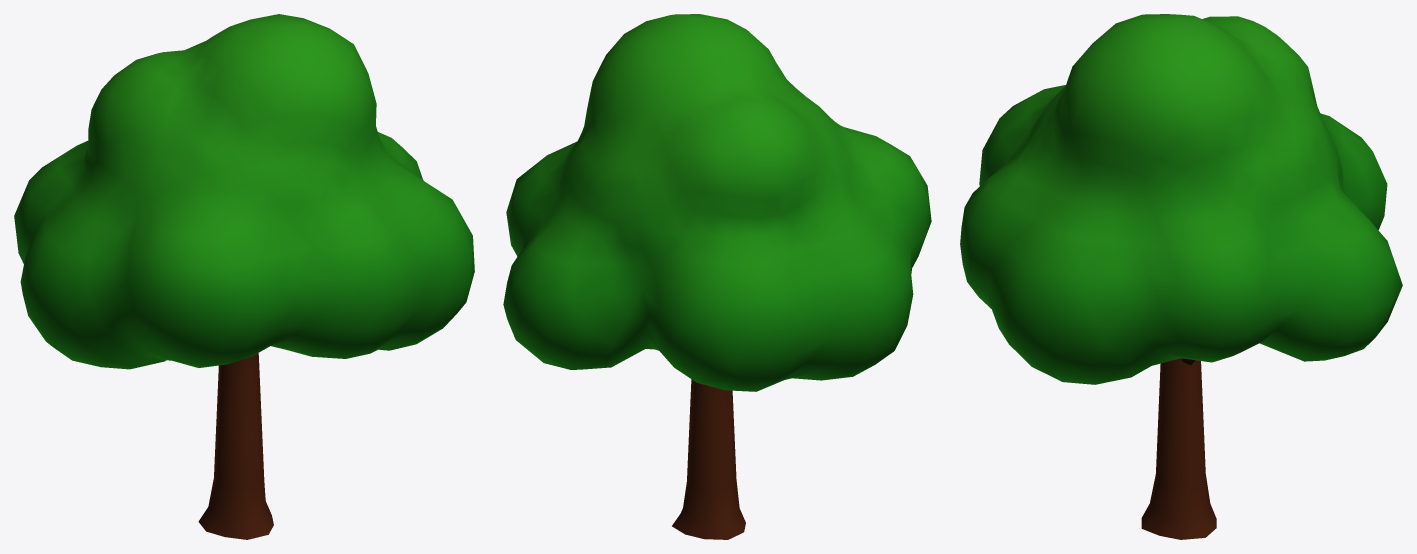
Rendered from Tree_Round.fbx.
3 renders of one model, left to right at view 1: azimuth 30°, elevation 25°; view 2: azimuth 150°, elevation 25°; view 3: azimuth 270°, elevation 25°, orthographic. The views are drawn at different scales.
Visible parts, largest first — view 1: Canopy, Tree_Round; view 2: Canopy, Tree_Round; view 3: Canopy, Tree_Round.
Boxes of the visible parts, <box> form: Canopy: <box>14,14,474,369</box>; Tree_Round: <box>198,353,273,539</box>; Canopy: <box>503,14,931,391</box>; Tree_Round: <box>672,379,745,539</box>; Canopy: <box>960,14,1402,384</box>; Tree_Round: <box>1141,358,1216,539</box>.
Size of the model in its own units: 3.17 by 3.91 by 3.04.
